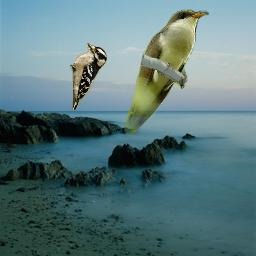Cuckoo: (123, 9, 209, 135)
Woodpecker: (70, 43, 107, 110)
